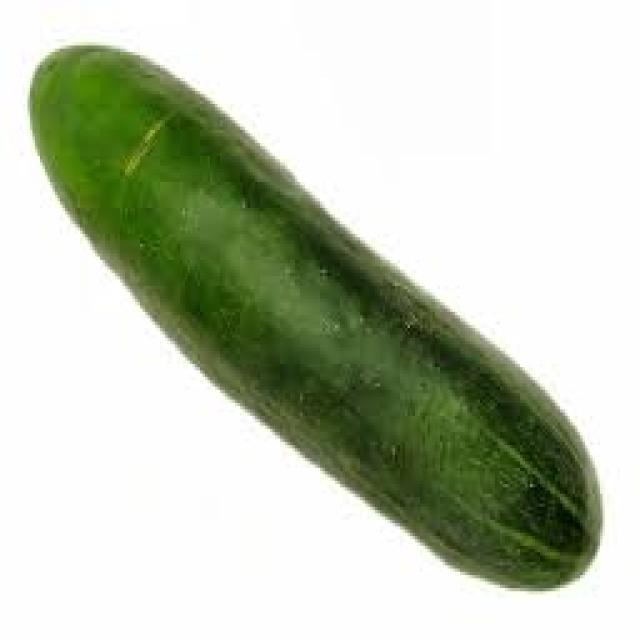cucumber: (25, 39, 605, 591)
